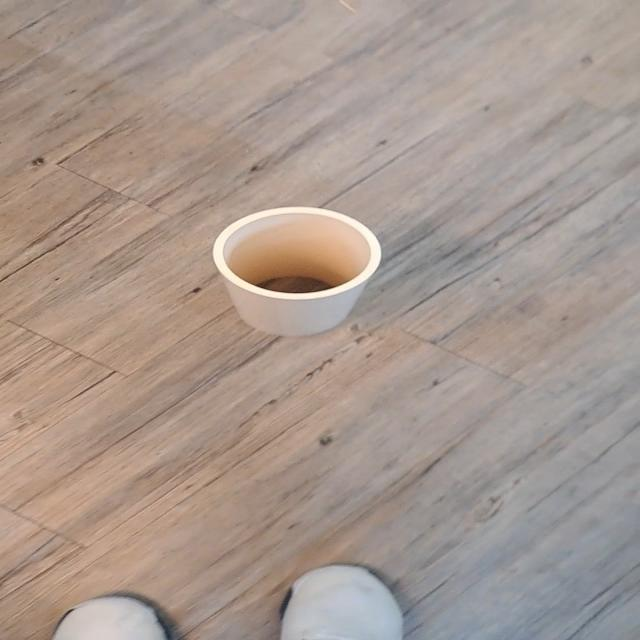CORAL: (184, 182, 419, 345)
